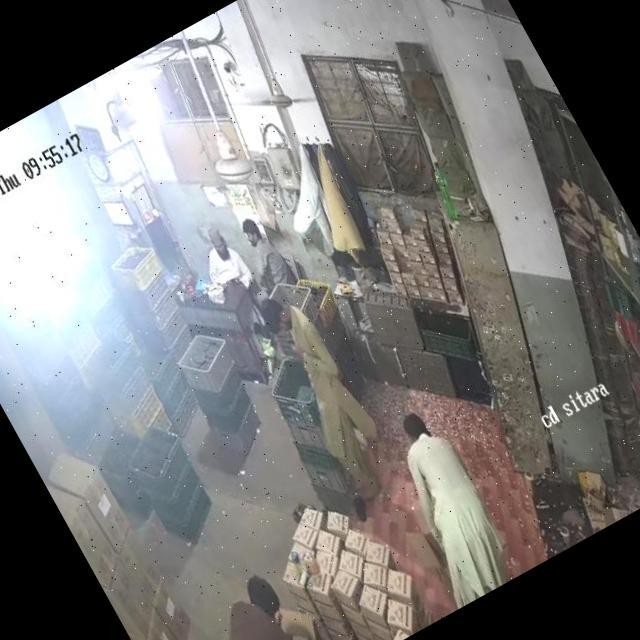person: (253, 281, 404, 502), (369, 400, 522, 606), (186, 567, 328, 640), (224, 208, 300, 298), (190, 219, 258, 303)
